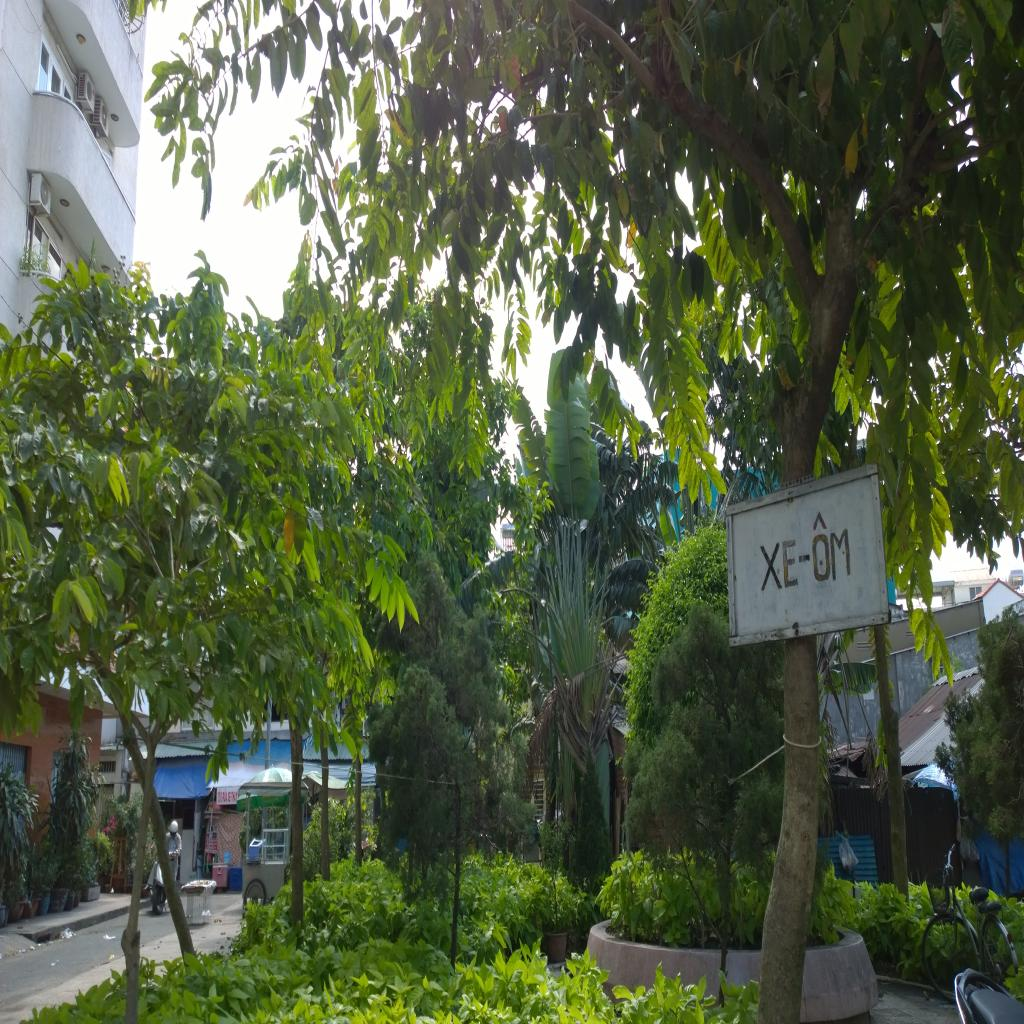text: (806, 509, 854, 591), (756, 530, 801, 594)
